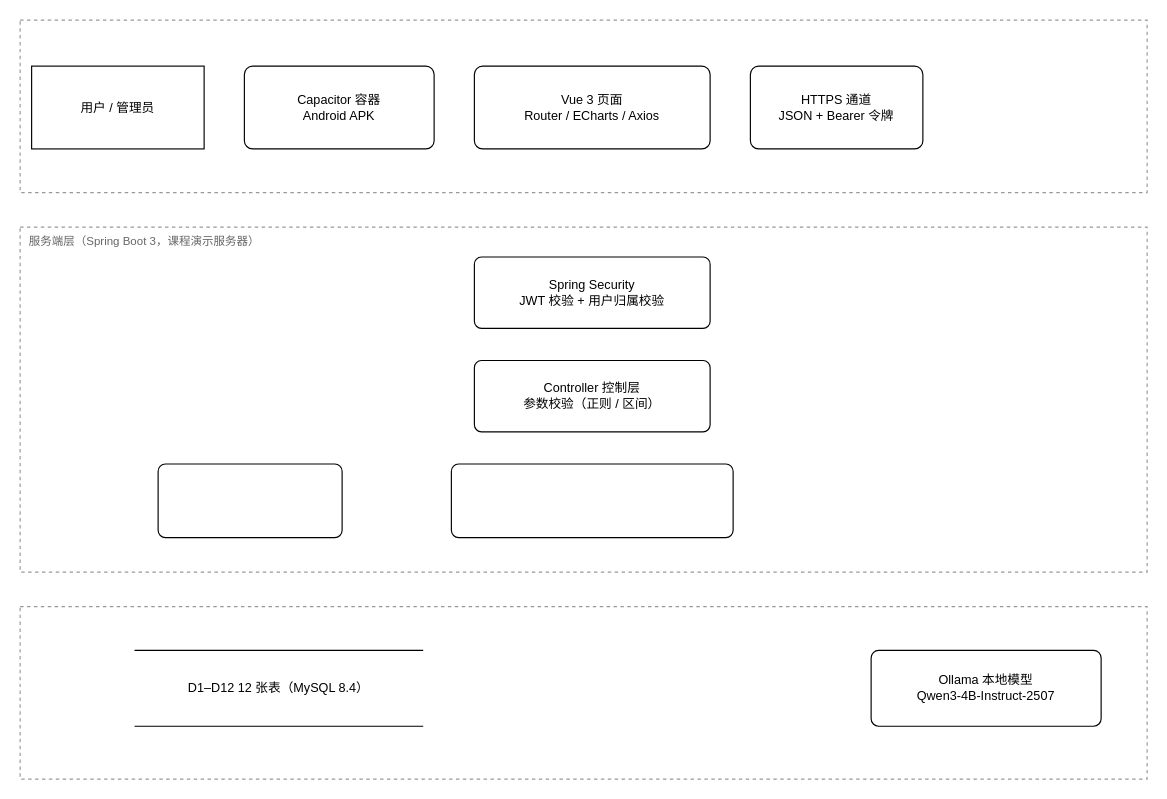
This 1167x799 diagram has some shape labels left out. Here are the shapes that lost their labels. From the top down, the box of each, then its label:
(19, 19, 1147, 193): 客户端层（Android 手机 / 本地调试浏览器）
(157, 463, 342, 538): Spring Data JPA 映射 / 事务
(450, 463, 733, 538): 业务加工 P1–P6 账户·训练·饮食·身体·统计·AI
(19, 605, 1147, 779): 数据层
